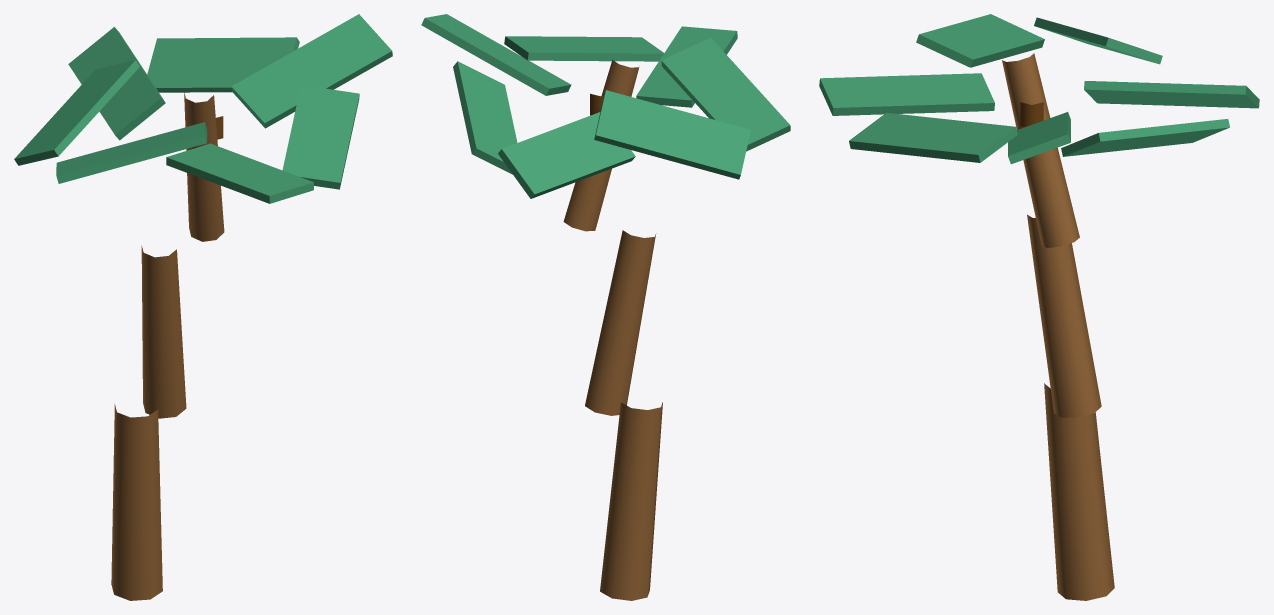
Rendered from palm-tree.glb.
3 views of the same model, side by side, from view 1: azimuth 30°, elevation 25°; view 2: azimuth 150°, elevation 25°; view 3: azimuth 270°, elevation 25° (orthographic). The views are drawn at different scales.
Visible parts, largest first — view 1: Root; view 2: Root; view 3: Root.
Boxes of the visible parts, <box> form: Root: <box>14,14,392,600</box>; Root: <box>421,14,790,600</box>; Root: <box>819,14,1259,600</box>.
Bounding box in the file's own units: 5.7 × 8.35 × 5.84.
